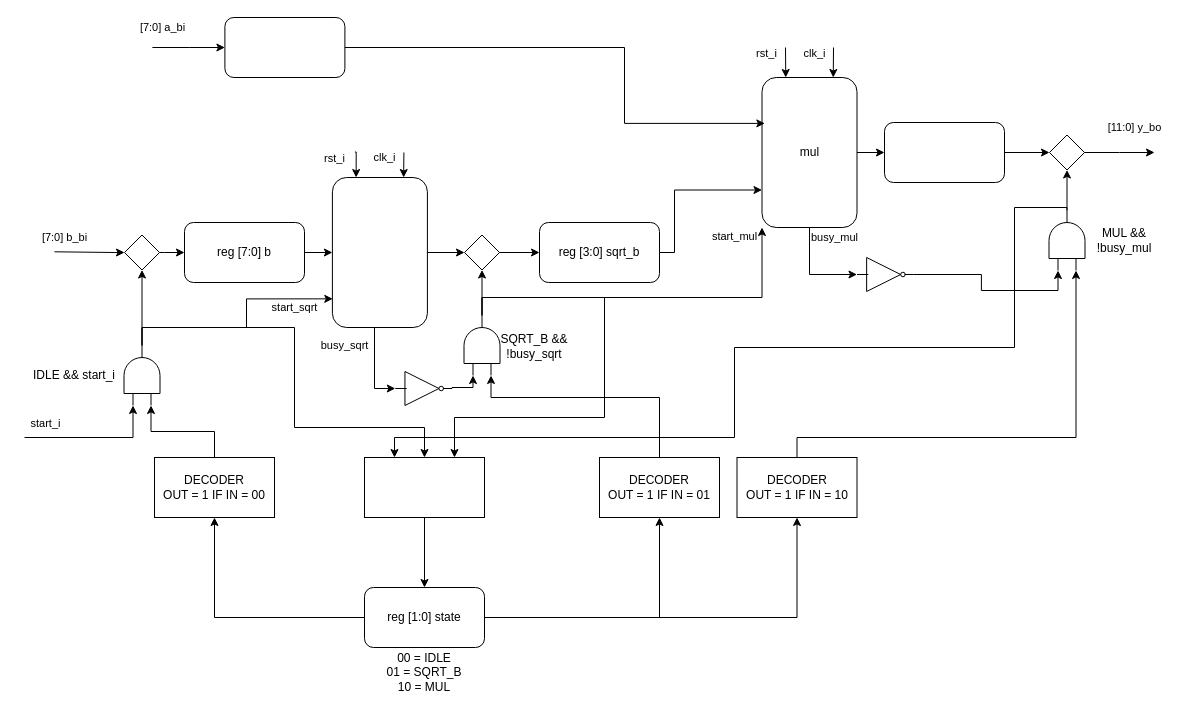
Image size: 1192x715. Some labels were removed from this diagram. The centre of each missing label's shape, as x and y in pixels:
"0 1 2 ENCODER" goes at pixel 424 487.
"reg [11:0] res" goes at pixel 944 152.
"reg [7:0] a" goes at pixel 284 47.
"sqrt" goes at pixel 379 252.
